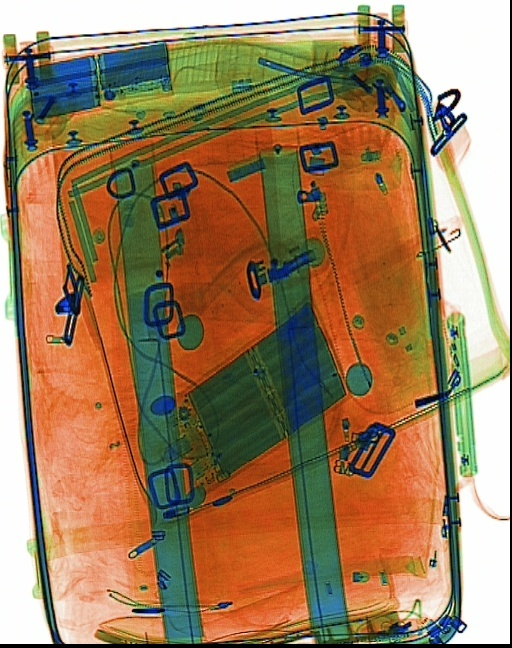powerbank: (153, 291, 358, 507), (20, 37, 180, 119)
